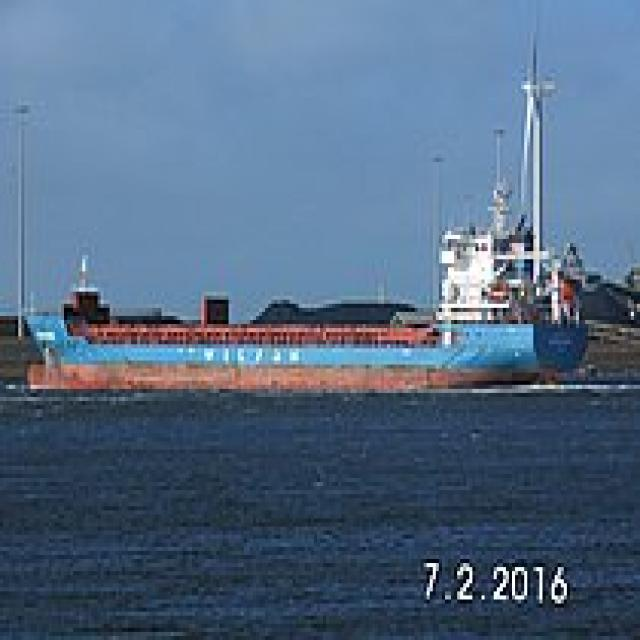Ship: (13, 199, 595, 402)
